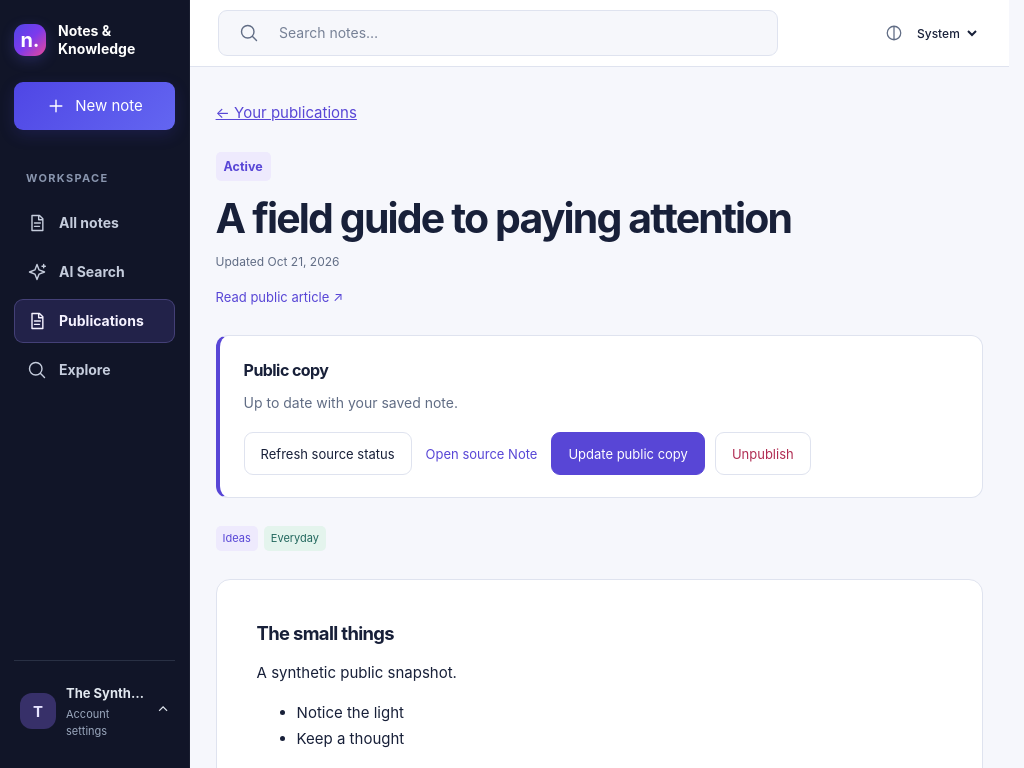
it: deliberate owner workflow › unpublish uses aggregate If-Match and removes cached reader immediately
Click the button "Unpublish".
click(763, 454)  # box left=715, top=432, right=811, bottom=475
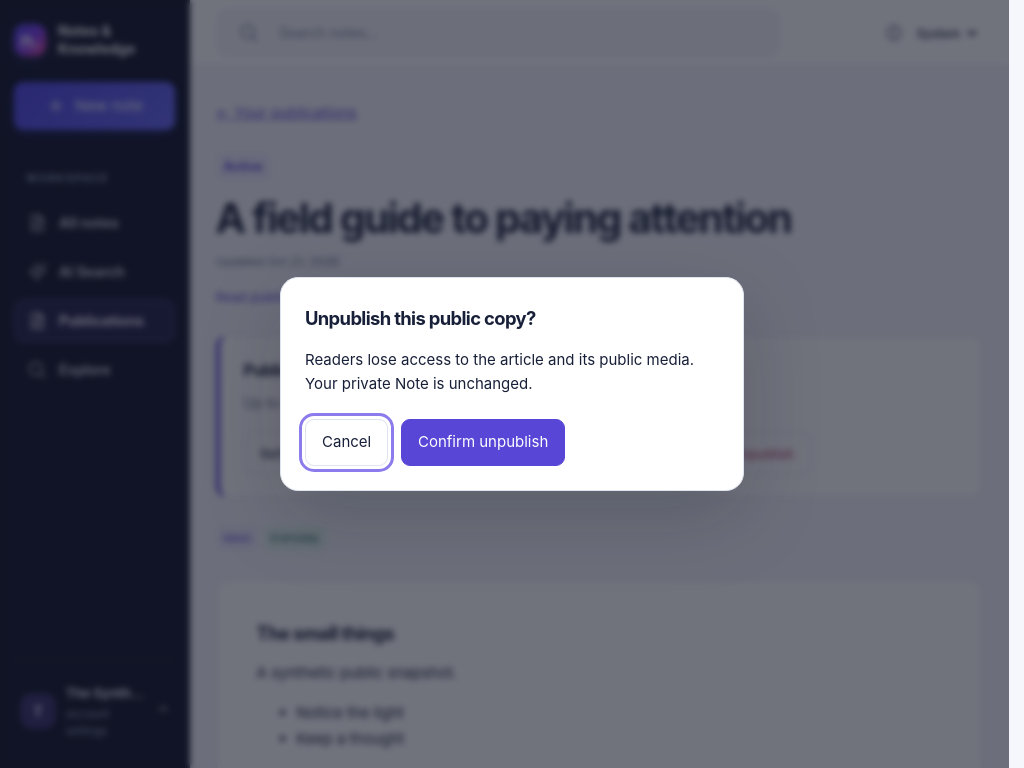
Click the button "Confirm unpublish".
click(483, 442)  # box left=401, top=419, right=565, bottom=466
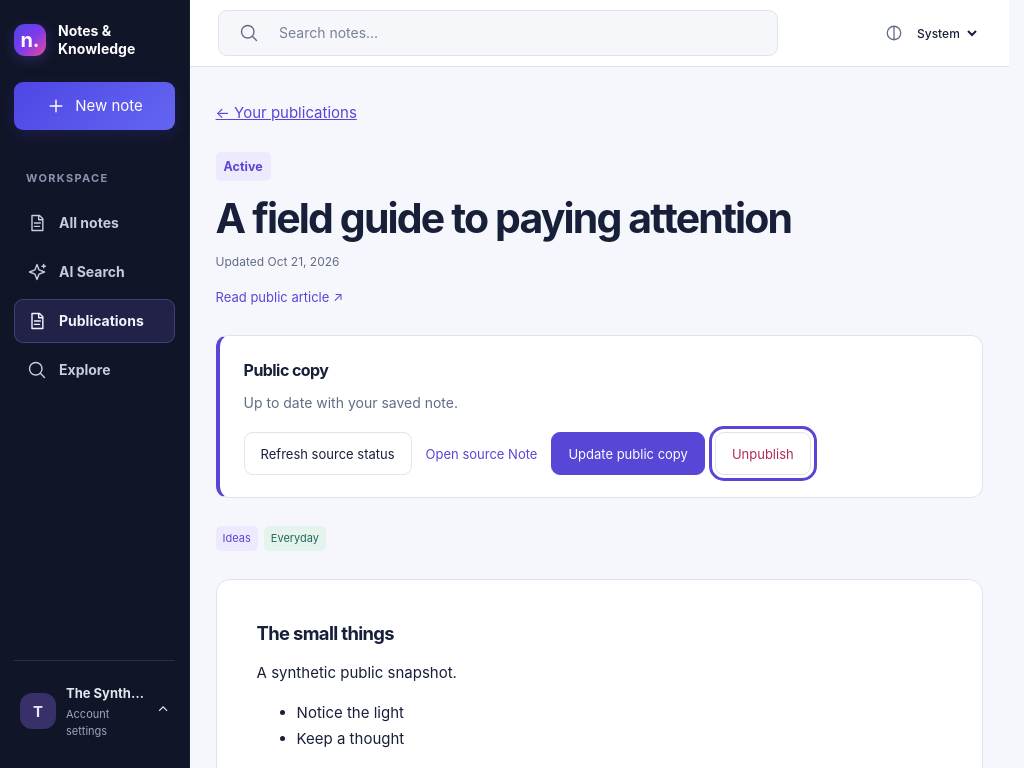
Result: the dialog is gone
